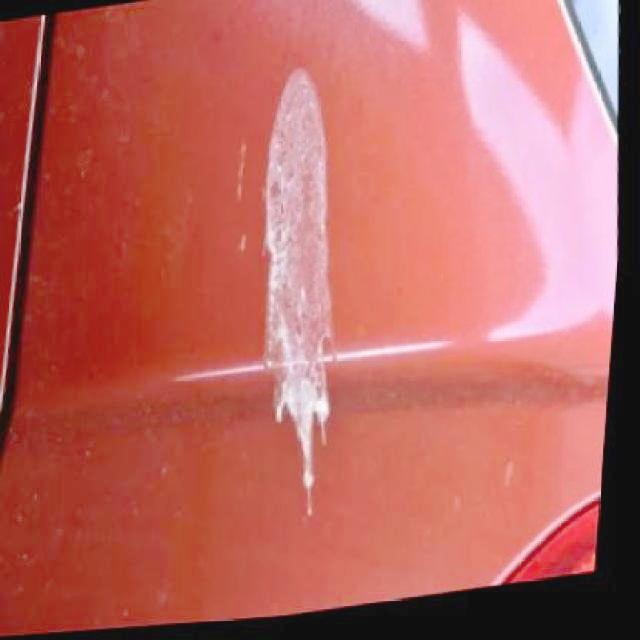Bird Poop: (266, 70, 331, 513)
